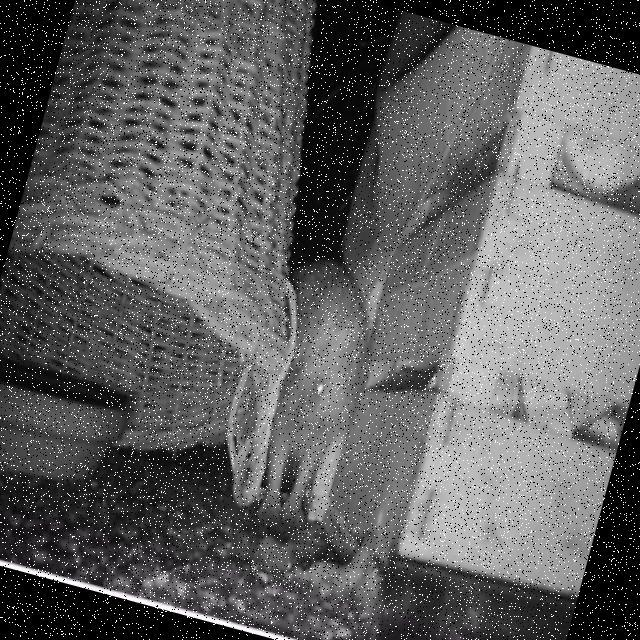Hedgehog: (261, 264, 369, 520)
